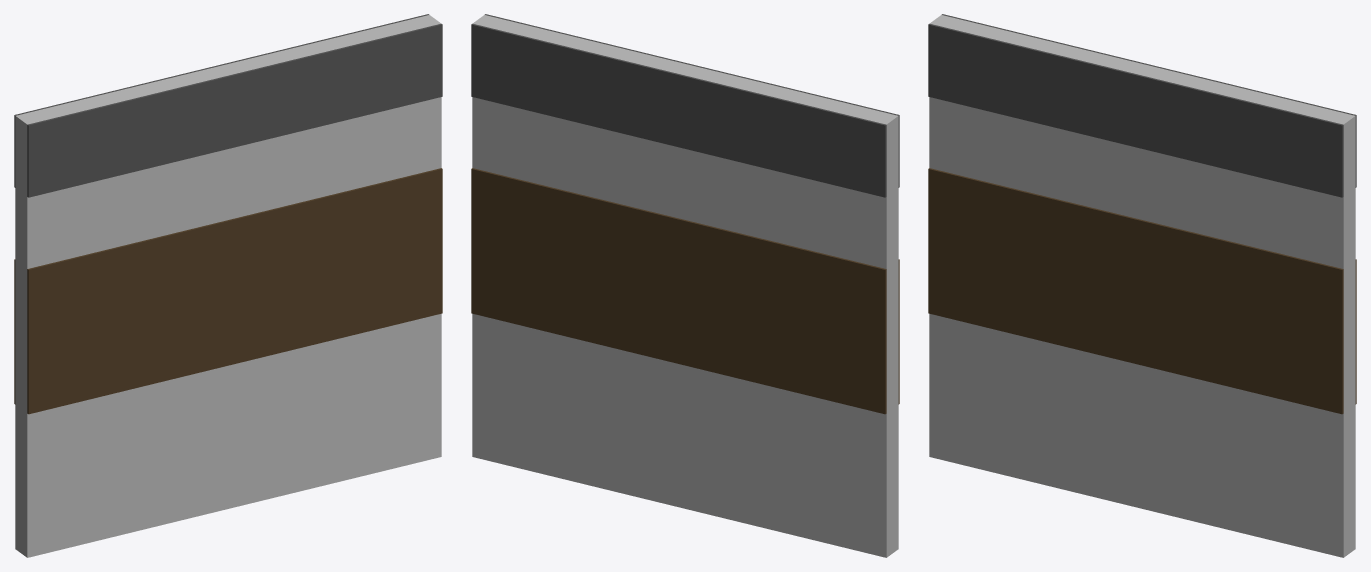
The model's file is Wall 1.fbx.
3 views of the same model, side by side, from view 1: azimuth 30°, elevation 25°; view 2: azimuth 150°, elevation 25°; view 3: azimuth 330°, elevation 25° (orthographic).
Parts seen in each view (by area): view 1: Wall 1; view 2: Wall 1; view 3: Wall 1.
Part boxes in pixels (<box>): Wall 1: <box>14,14,442,557</box>; Wall 1: <box>471,14,899,557</box>; Wall 1: <box>928,14,1356,557</box>.
Bounding box in the file's own units: 2000 × 2000 × 120.
